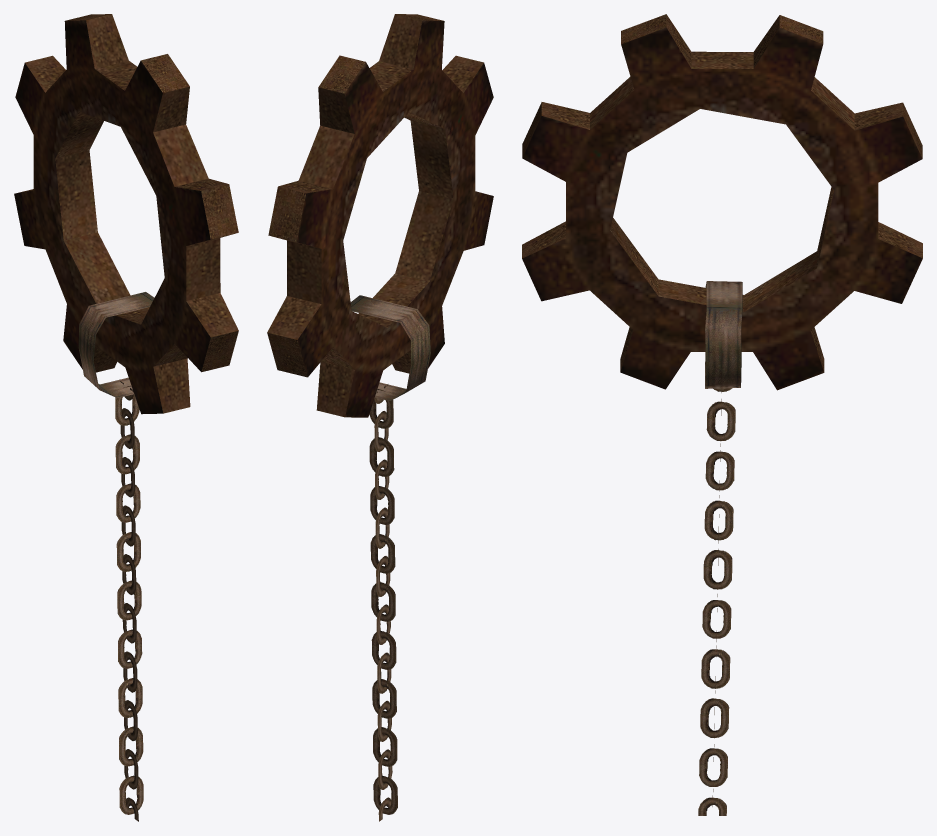
The model's file is gear_club3_1m.fbx.
The picture shows the model from 3 angles, left to right: view 1: azimuth 30°, elevation 25°; view 2: azimuth 150°, elevation 25°; view 3: azimuth 270°, elevation 25°; orthographic projection. The views are drawn at different scales.
Parts seen in each view (by area): view 1: mesh_0, mesh_1; view 2: mesh_0, mesh_1; view 3: mesh_0, mesh_1.
Part boxes in pixels (left/top/right/bottom): mesh_0: left=14, top=14, right=238, bottom=414; mesh_1: left=78, top=292, right=154, bottom=821; mesh_0: left=267, top=14, right=493, bottom=417; mesh_1: left=350, top=295, right=430, bottom=821; mesh_0: left=522, top=14, right=922, bottom=390; mesh_1: left=698, top=281, right=742, bottom=815.
Size of the model in its own units: 20.78 by 186 by 85.16.
2 materials, 2 textured.
